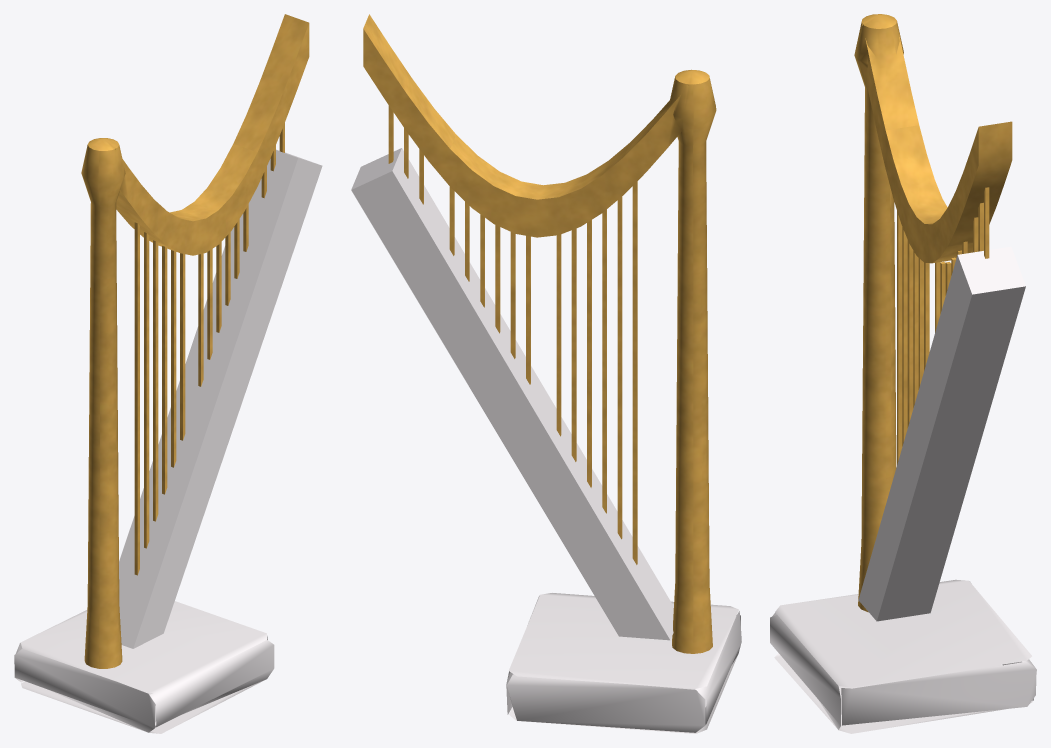
Rendered from citadel_pool_harp.glb.
3 views of the same model, side by side, from view 1: azimuth 30°, elevation 25°; view 2: azimuth 150°, elevation 25°; view 3: azimuth 270°, elevation 25° (orthographic). The views are drawn at different scales.
Visible parts, largest first — view 1: pool_harp_1, pool_harp_0; view 2: pool_harp_1, pool_harp_0; view 3: pool_harp_1, pool_harp_0.
Part boxes in pixels (x1,y1,x2,y2): pool_harp_1: (14, 149, 322, 733); pool_harp_0: (81, 14, 309, 668); pool_harp_1: (351, 148, 741, 733); pool_harp_0: (363, 14, 716, 653); pool_harp_1: (770, 246, 1036, 733); pool_harp_0: (854, 14, 1012, 612).
Bounding box in the file's own units: 1.13 × 2.04 × 0.7462.
Materials: 2 (1 with a texture image).
